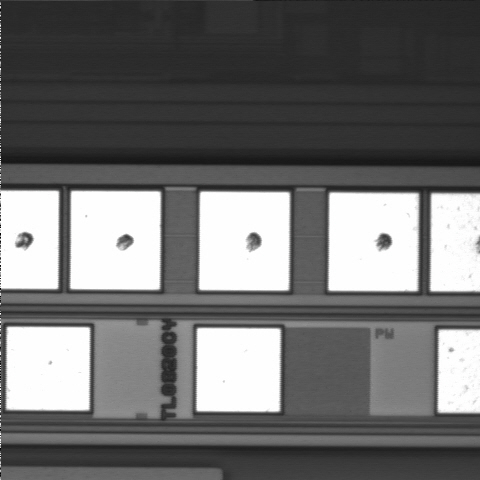pad: (70, 191, 161, 290), (199, 192, 290, 290), (329, 193, 418, 291), (6, 327, 90, 410), (197, 328, 280, 412)
